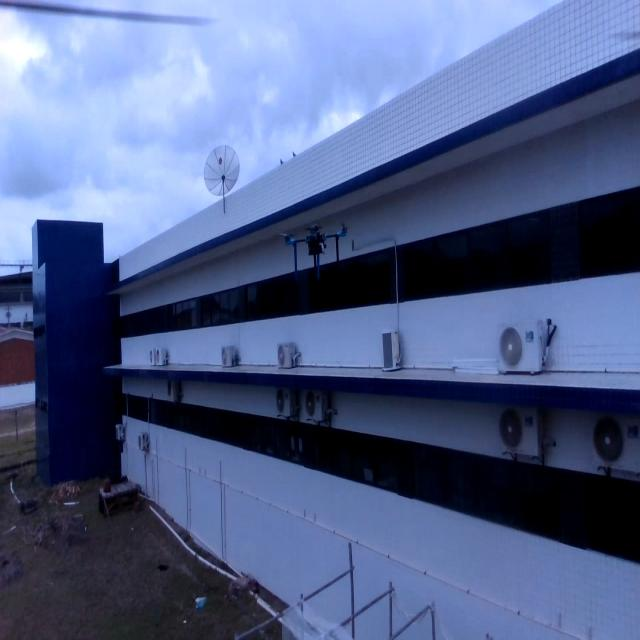-uav-: (271, 210, 354, 298)
